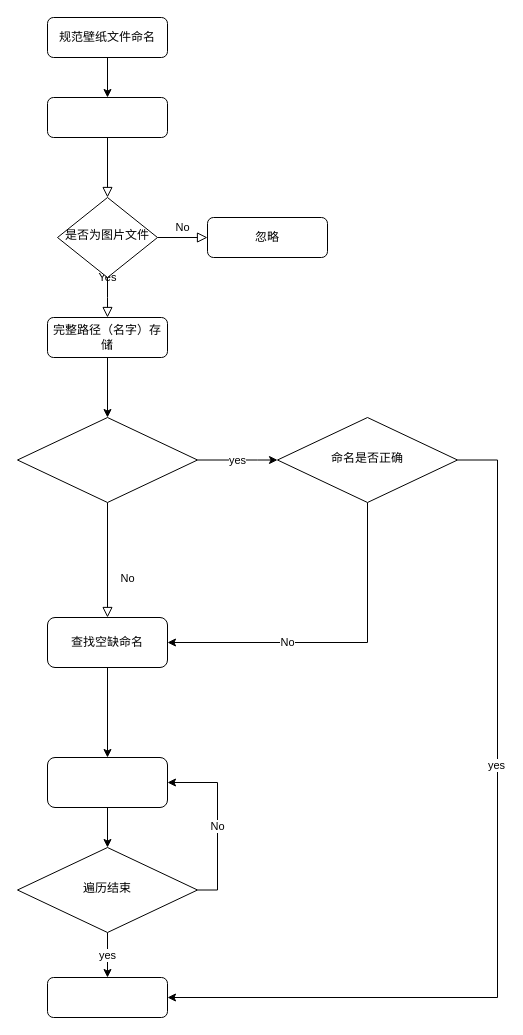
This 523x1035 diagram has some shape labels left out. The shapes that lost their labels are listed below. From the top down, each one's centre as x and y in pixels, then its label:
At point 107,117: "遍历文件夹".
At point 107,459: "是否复合规范命名".
At point 107,782: "填补空缺".
At point 107,997: "结束".
